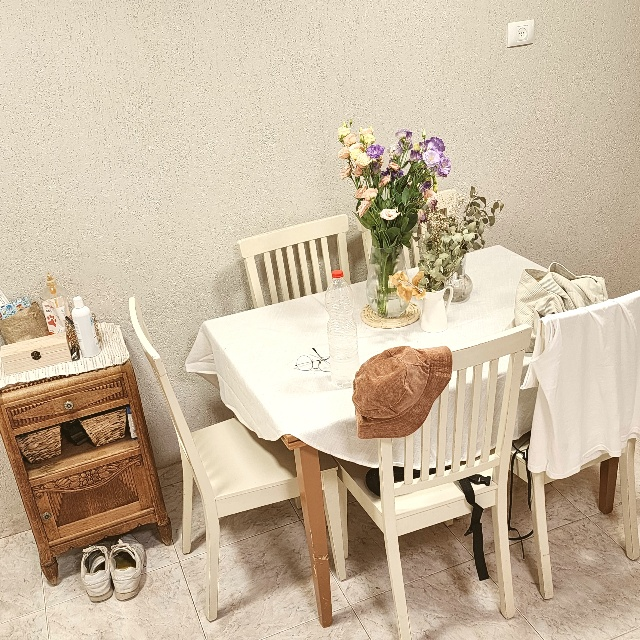glasses: (292, 345, 334, 375)
